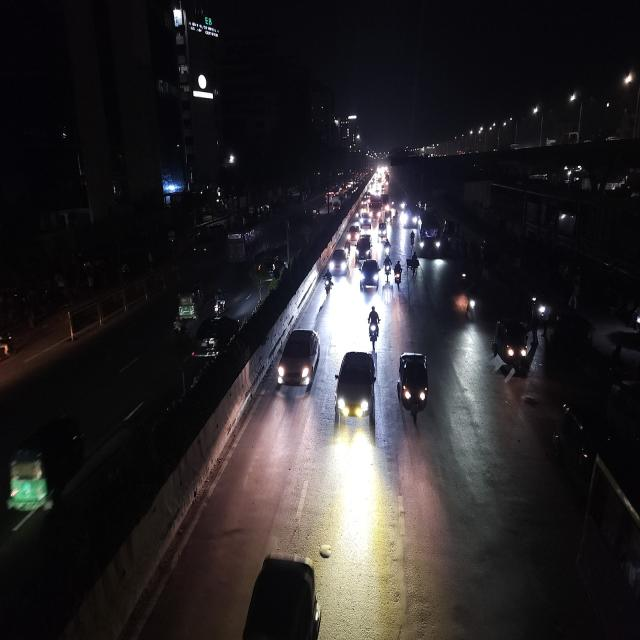bus: (226, 220, 266, 267), (417, 210, 443, 261)
car: (334, 346, 378, 428), (273, 324, 321, 396), (188, 314, 244, 364), (253, 246, 288, 293), (358, 255, 382, 294), (328, 245, 350, 277), (354, 234, 373, 264), (345, 224, 361, 245), (358, 212, 372, 229)
cng: (4, 408, 88, 519), (554, 398, 598, 482), (394, 348, 432, 427), (491, 314, 535, 379), (176, 281, 204, 322), (529, 289, 552, 327), (376, 223, 390, 241)
motorcycle: (366, 305, 382, 348), (210, 287, 228, 318), (321, 266, 335, 298), (393, 260, 403, 291), (383, 252, 393, 280), (409, 228, 417, 249)
rickshaw: (406, 257, 419, 278)
